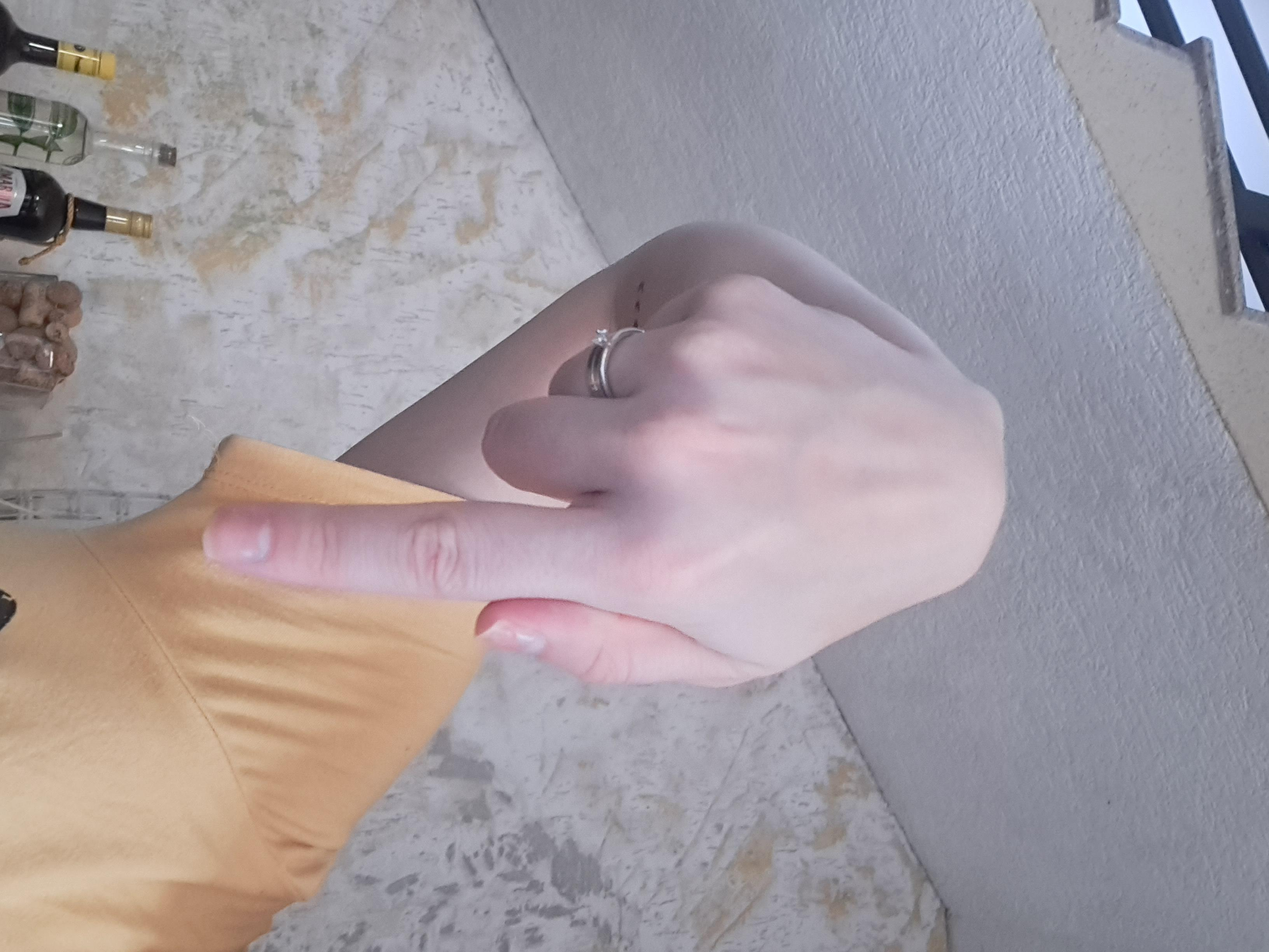Q: (352, 163, 943, 817)
